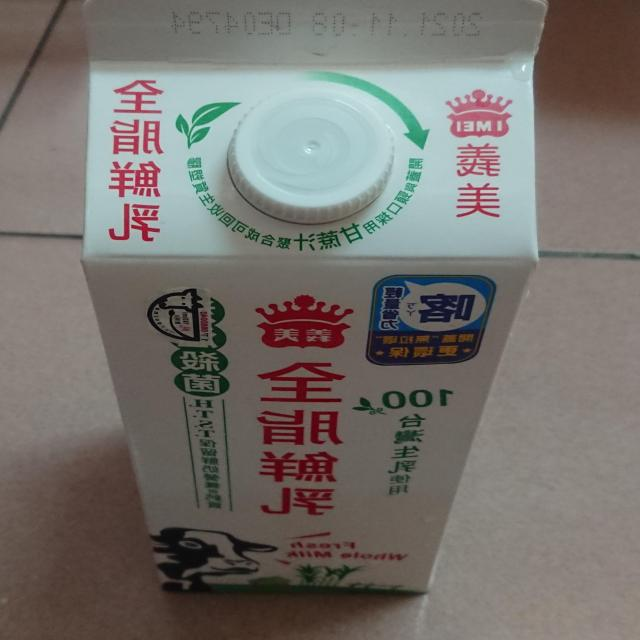cardboard: (77, 0, 547, 602)
